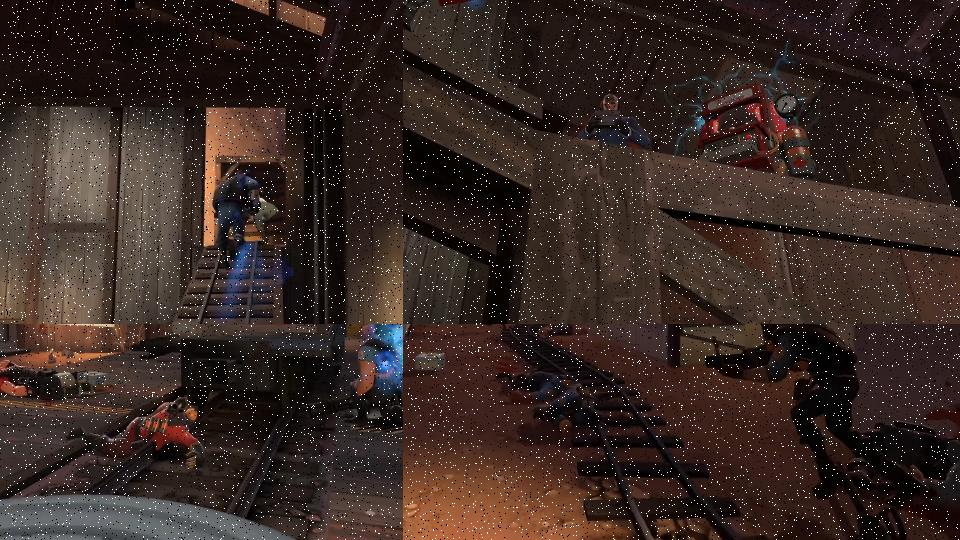Enemy: (703, 324, 931, 507), (67, 394, 209, 472), (308, 324, 403, 427), (212, 170, 262, 270), (577, 93, 653, 150), (0, 358, 82, 400), (373, 324, 403, 432), (253, 194, 281, 244)
